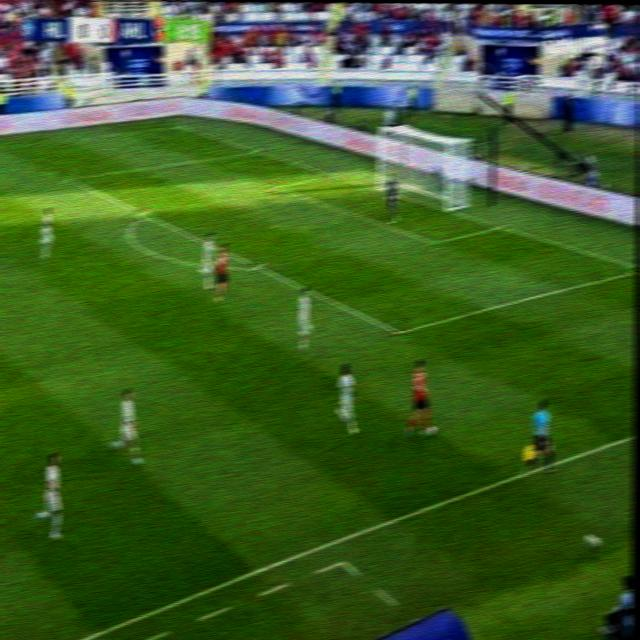bigarea_bottom_inner: (388, 318, 410, 341)
bigarea_bottom_outter: (627, 257, 637, 279)
bigarea_top_inner: (60, 168, 78, 186)
bigarea_top_outter: (248, 143, 265, 157)
bottom_arc_area_intersection: (249, 257, 266, 275)
corner: (169, 117, 188, 131)
smallarea_bottom_inner: (423, 231, 442, 250)
smallarea_bottom_outter: (491, 216, 510, 236)
smallarea_top_inner: (266, 178, 288, 193)
smallarea_top_outter: (324, 166, 342, 182)
top_arc_area_intersection: (134, 206, 151, 221)
